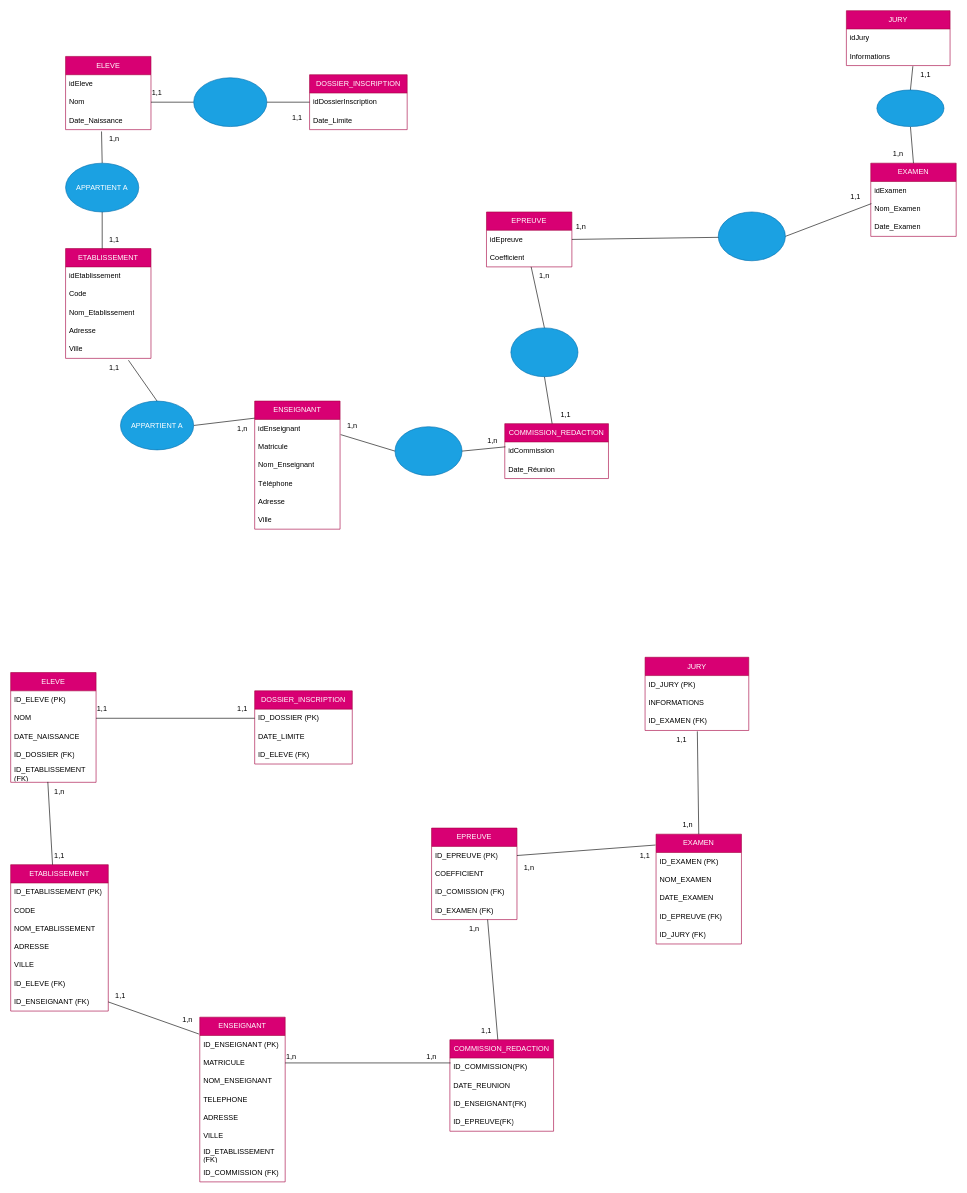
This 967x1193 diagram has some shape labels left out. The centre of each missing label's shape, as x and y in pixels:
"COMPORTE" goes at (x=751, y=236).
"INSCRIT" goes at (x=230, y=102).
"PARTICIPE A" goes at (x=428, y=450).
"REDIGE" goes at (x=544, y=352).
"VALIDE" goes at (x=910, y=108).
